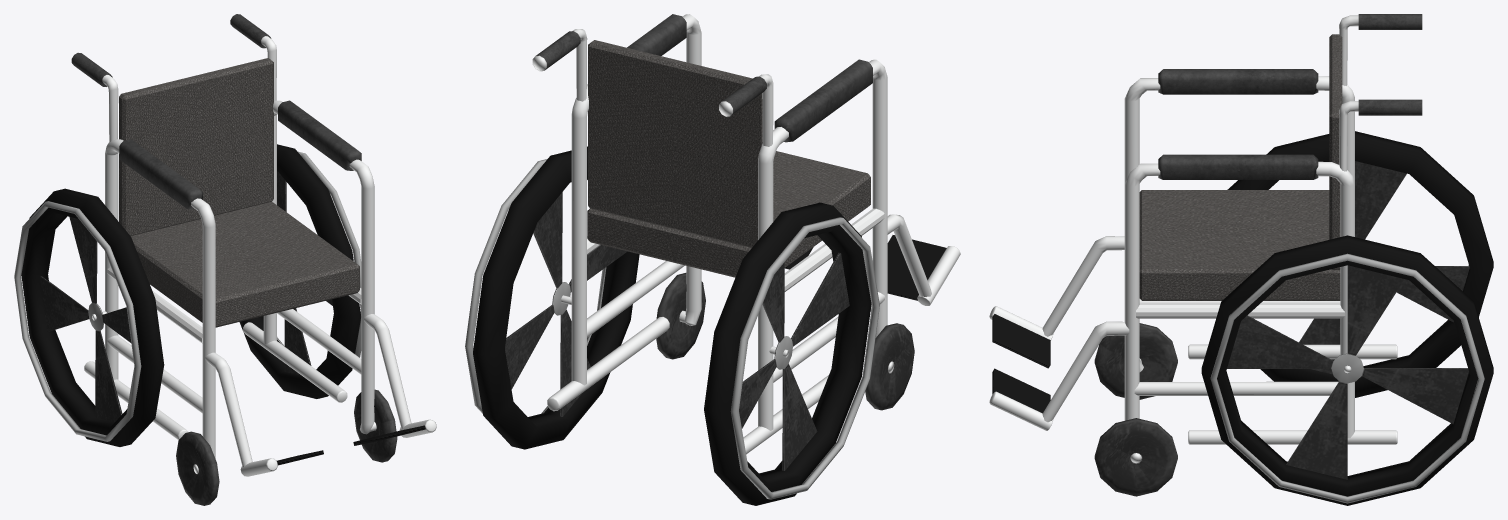
File: er_wheelchair.glb
The picture shows the model from 3 angles, left to right: view 1: azimuth 30°, elevation 25°; view 2: azimuth 150°, elevation 25°; view 3: azimuth 270°, elevation 25°; orthographic projection. The views are drawn at different scales.
Parts seen in each view (by area): view 1: Object_2; view 2: Object_2; view 3: Object_2.
Part boxes in pixels (x1,y1,x2,y2): Object_2: (14,14,436,505); Object_2: (465,14,960,505); Object_2: (989,14,1493,505).
Size of the model in its own units: 75.4 by 110 by 128.
1 material, 1 textured.
